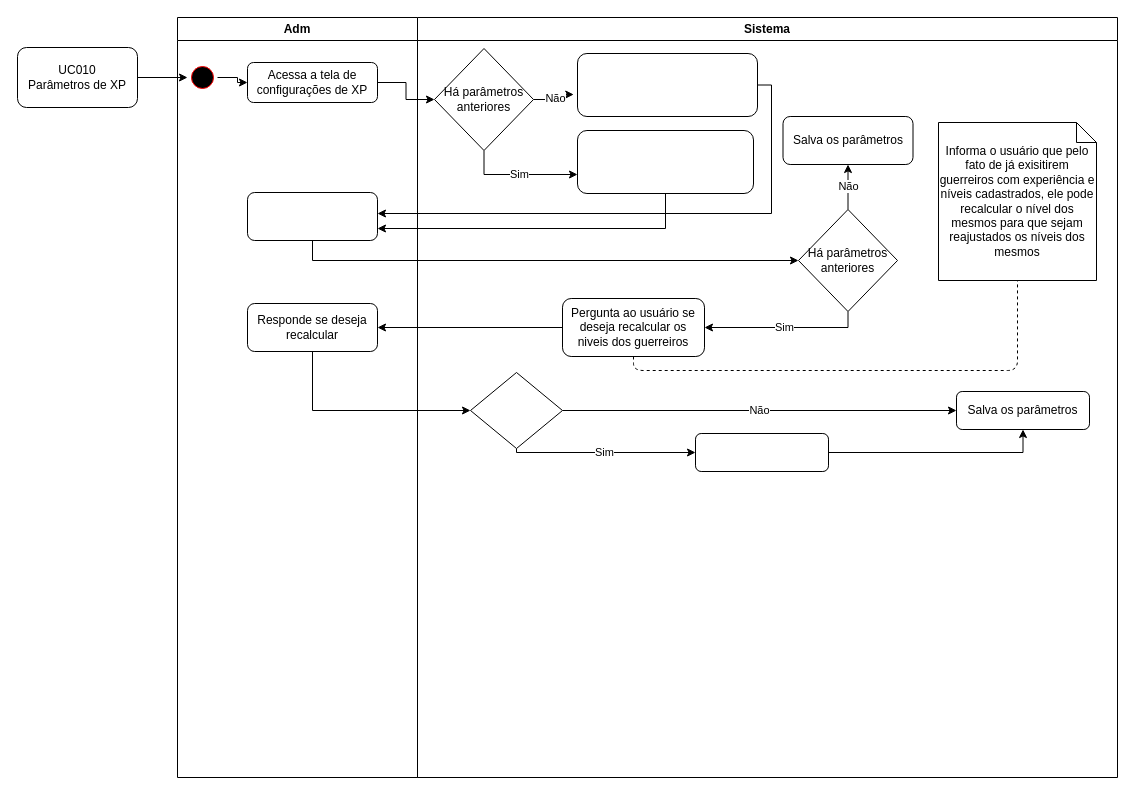
Image size: 1135x795. Some labels were removed from this diagram. Each missing label, with the centre of its shape:
Deseja recalcular: the point at 516,410
Exibe a tela de configurações de XP exibindo as ajudas no cadastro inicial: the point at 667,84
Exibe a tela de parâmetro de XP carregando as informações já cadastradas: the point at 665,162
Preenche os parâmetros de XP e submete: the point at 312,216
Recalcula o nível dos guerreiros: the point at 761,452
